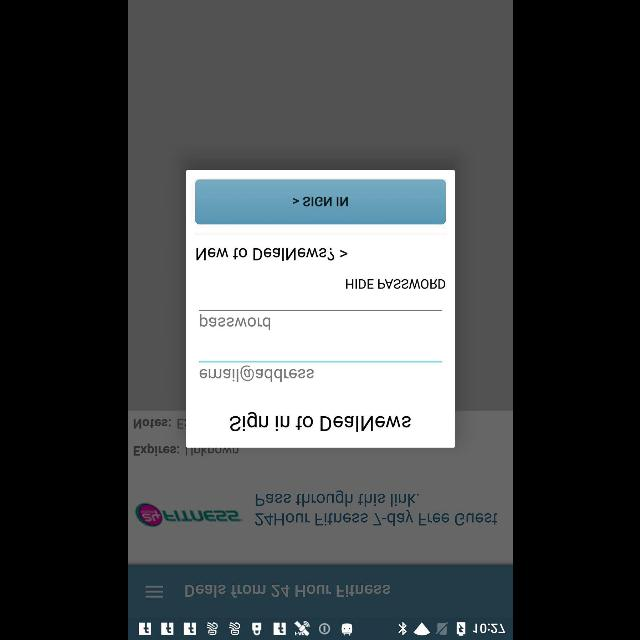icon: (144, 584, 162, 598)
image: (134, 503, 242, 527)
input: (198, 360, 442, 382), (198, 310, 442, 330)
panel: (186, 170, 454, 448)
text: (255, 493, 497, 525), (230, 411, 410, 431), (184, 584, 390, 596), (199, 365, 313, 381), (196, 248, 346, 260), (200, 314, 270, 330), (346, 280, 444, 288), (133, 444, 179, 456), (132, 418, 170, 429)
textbutton: (194, 180, 444, 224)
uppertaskbar: (128, 617, 512, 639)
